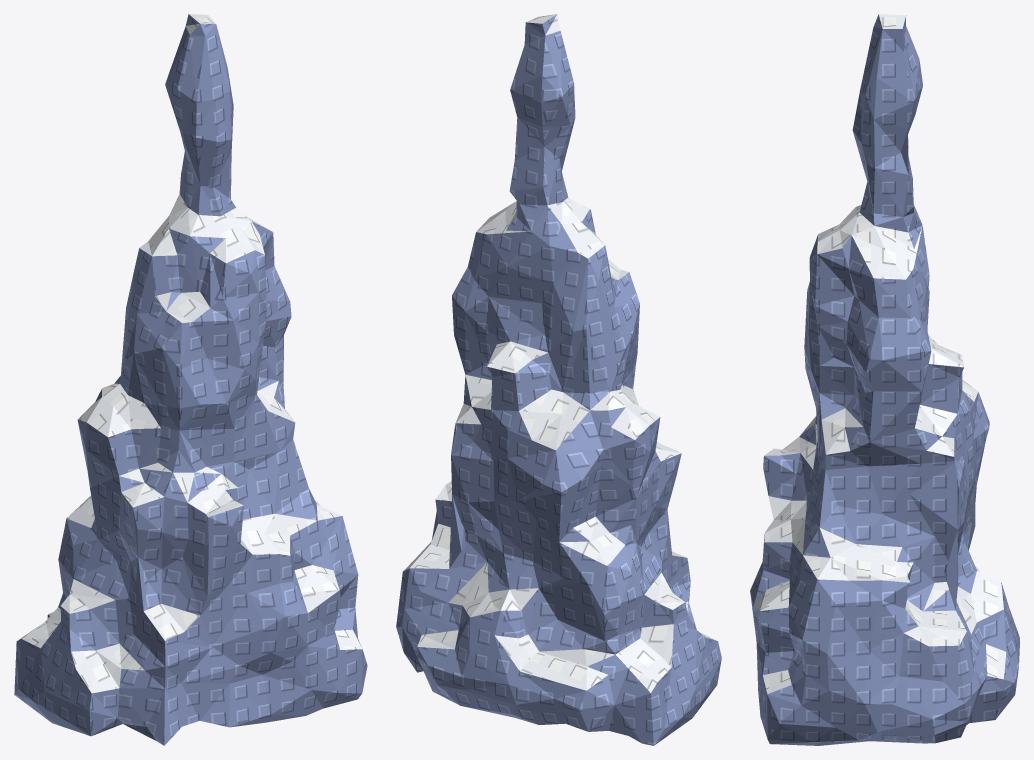
The model's file is IceCrag.glb.
The picture shows the model from 3 angles, left to right: view 1: azimuth 30°, elevation 25°; view 2: azimuth 150°, elevation 25°; view 3: azimuth 270°, elevation 25°; orthographic projection. The views are drawn at different scales.
Parts seen in each view (by area): view 1: IceCrag_Rock, IceCrag_Top; view 2: IceCrag_Rock, IceCrag_Top; view 3: IceCrag_Rock, IceCrag_Top.
Part boxes in pixels (left/top/right/bottom): IceCrag_Rock: left=14, top=14, right=367, bottom=745; IceCrag_Top: left=17, top=14, right=362, bottom=693; IceCrag_Rock: left=396, top=14, right=721, bottom=745; IceCrag_Top: left=403, top=14, right=716, bottom=692; IceCrag_Rock: left=750, top=14, right=1019, bottom=745; IceCrag_Top: left=753, top=14, right=1006, bottom=693.
Bounding box in the file's own units: 13.06 × 29.86 × 10.64.
Materials: 2 (2 with a texture image).
